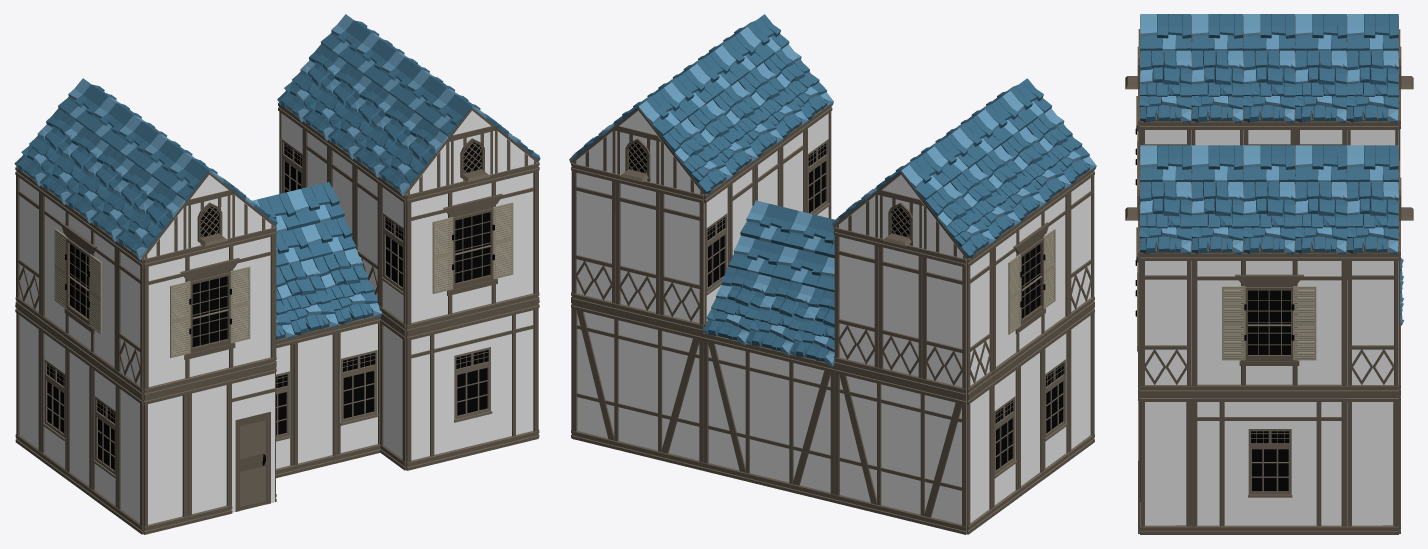
File: House_10_full.glb
3 renders of one model, left to right at view 1: azimuth 30°, elevation 25°; view 2: azimuth 150°, elevation 25°; view 3: azimuth 270°, elevation 25°, orthographic. The views are drawn at different scales.
Parts seen in each view (by area): view 1: WINDOW_07_6, WINDOW_07_3, WINDOW_03_2, WINDOW_07_4, WALL_03_4, WALL_03_9, WALL_03_3, WINDOW_04_6, DOOR_01_3, WALL_01_1, WALL_03_5, WINDOW_04_9 (+45 smaller); view 2: WALL_02_3, WALL_02_2, WALL_02_4, WINDOW_07_4, WALL_01_4, WALL_01_5, WALL_01_16, WALL_01_3, WALL_01_10, WALL_01_15, WALL_03_7, WALL_03_5 (+45 smaller); view 3: WINDOW_07_5, WINDOW_03_3, WALL_01_9, WALL_01_11, WALL_03_11, WALL_03_12, ROOF_base_5, ROOF_base_15, ROOF_base_4, ROOF_base_3, ROOF_base_7, ROOF_base_6 (+21 smaller).
Boxes of the visible parts, box(x1,y1,x2,y2) form: WINDOW_07_6: box(406, 163, 538, 333); WINDOW_07_3: box(143, 227, 275, 397); WINDOW_03_2: box(406, 301, 538, 470); WINDOW_07_4: box(40, 185, 117, 378); WALL_03_4: box(143, 387, 188, 534); WALL_03_9: box(293, 327, 338, 473); WALL_03_3: box(188, 376, 232, 524); WINDOW_04_6: box(337, 316, 380, 462); DOOR_01_3: box(231, 365, 275, 512); WALL_01_1: box(116, 241, 143, 396); WALL_03_5: box(116, 379, 143, 534); WINDOW_04_9: box(379, 177, 406, 332); WALL_02_3: box(703, 332, 834, 502); WALL_02_2: box(834, 365, 966, 534); WALL_02_4: box(571, 301, 703, 470); WINDOW_07_4: box(993, 188, 1069, 378); WALL_01_4: box(922, 248, 966, 397); WALL_01_5: box(834, 227, 878, 375); WALL_01_16: box(659, 184, 703, 333); WALL_01_3: box(878, 238, 922, 386); WALL_01_10: box(571, 163, 615, 311); WALL_01_15: box(615, 174, 659, 322); WALL_03_7: box(966, 379, 993, 534); WALL_03_5: box(1068, 305, 1094, 460); WINDOW_07_5: box(1192, 252, 1346, 394); WINDOW_03_3: box(1192, 394, 1346, 534); WALL_01_9: box(1347, 252, 1398, 394); WALL_01_11: box(1140, 252, 1191, 394); WALL_03_11: box(1140, 394, 1191, 534); WALL_03_12: box(1347, 394, 1398, 534); ROOF_base_5: box(1243, 50, 1295, 123); ROOF_base_15: box(1243, 181, 1295, 255); ROOF_base_4: box(1191, 49, 1243, 123); ROOF_base_3: box(1139, 50, 1191, 123); ROOF_base_7: box(1346, 50, 1398, 123); ROOF_base_6: box(1295, 50, 1347, 123).
Bounding box in the file's own units: 9.2 × 7.59 × 5.56.
Materials: 1 (1 with a texture image).
